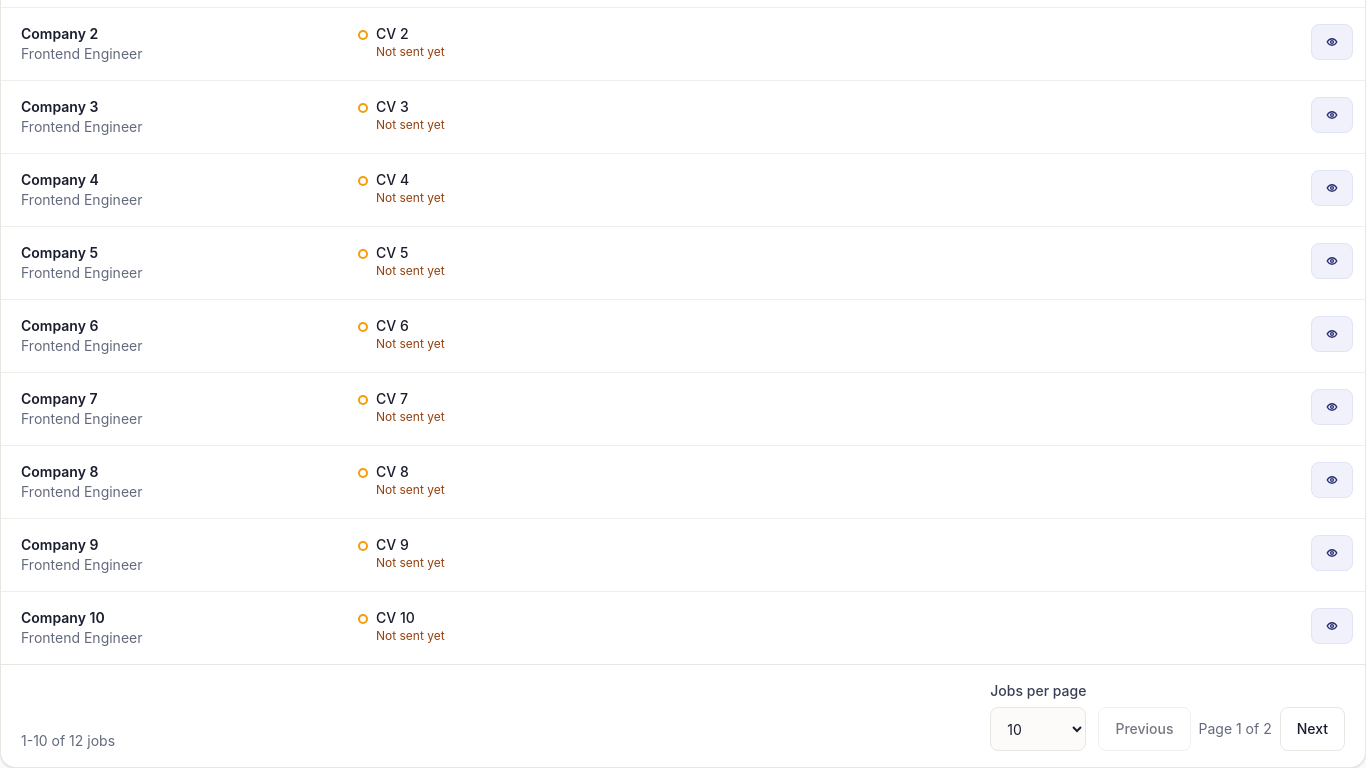
Test: ApplicationsPage › pages through long lists, ten jobs at a time by default
The width and height of the screenshot is (1366, 768).
(page scrolled)
Expected: the text "1-10 of 12 jobs" is shown, [21, 731, 115, 751]
Click the button "Next" at (1312, 729), box [1280, 707, 1345, 751]
(page scrolled)
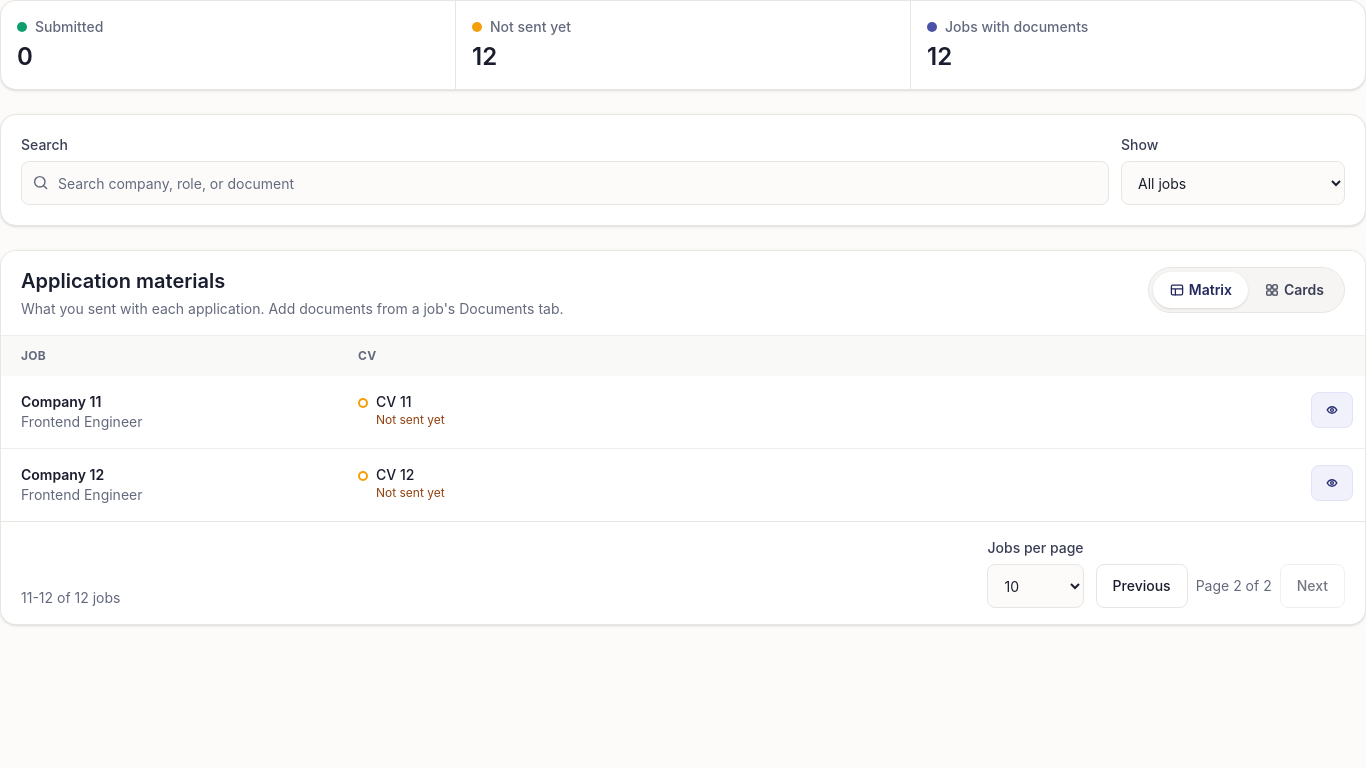
Expected: the text "Page 2 of 2" is shown, [1196, 576, 1272, 596]
